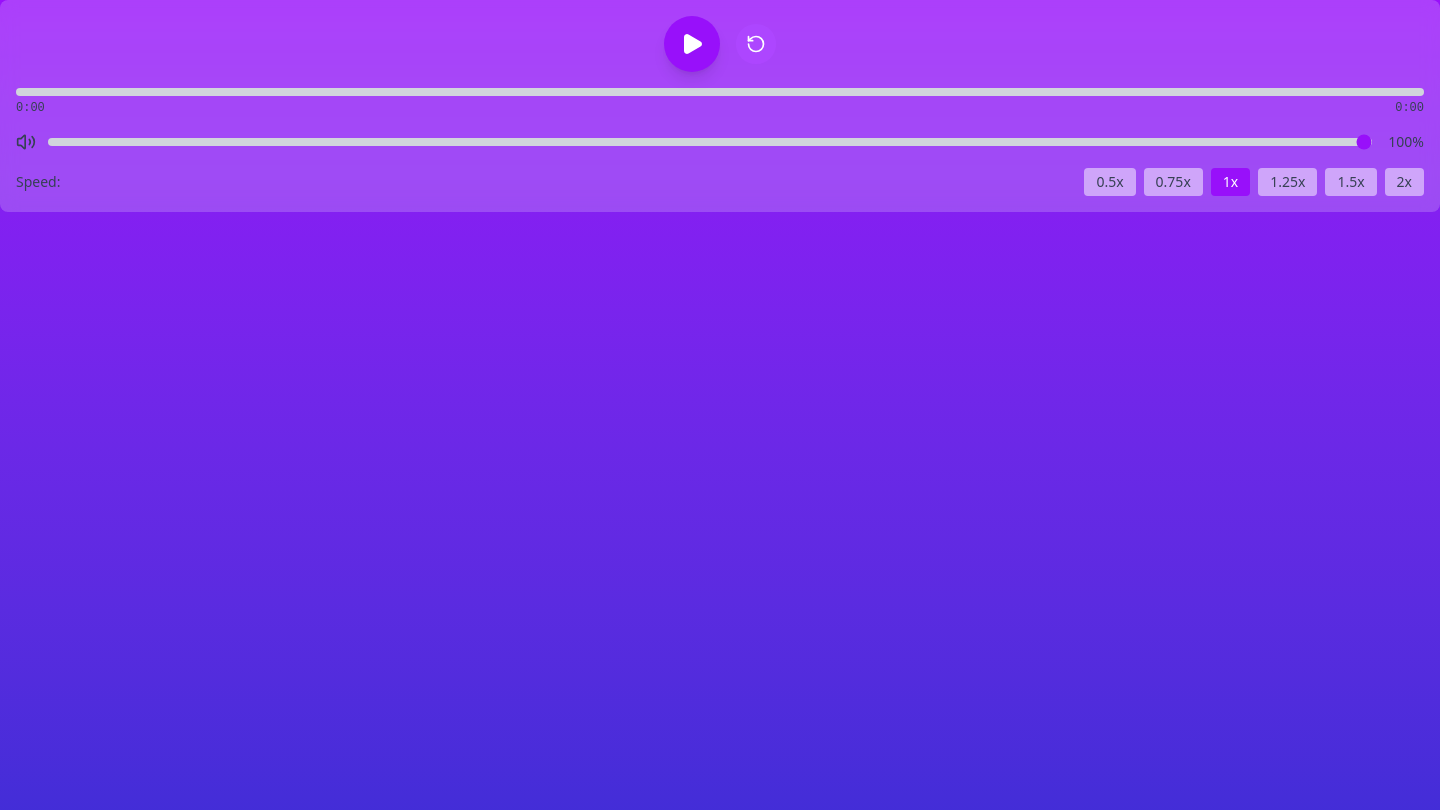
Test: VoicePlayer › updates volume when slider is changed
Set the slider named "Volume" to "0.5" at (710,142), box [48,138,1372,146]
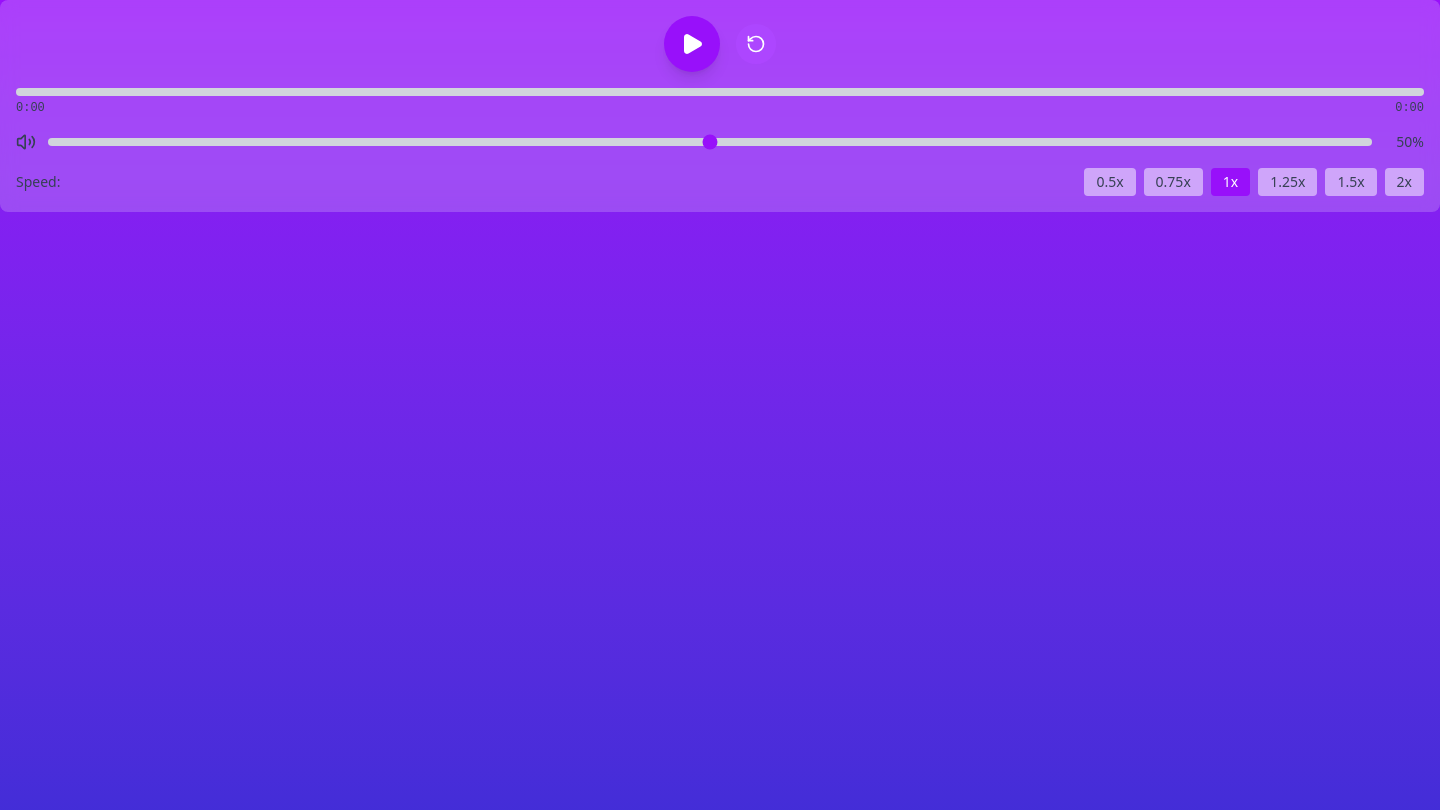
Result: the text "50%" is shown at [1396,132,1424,151]
